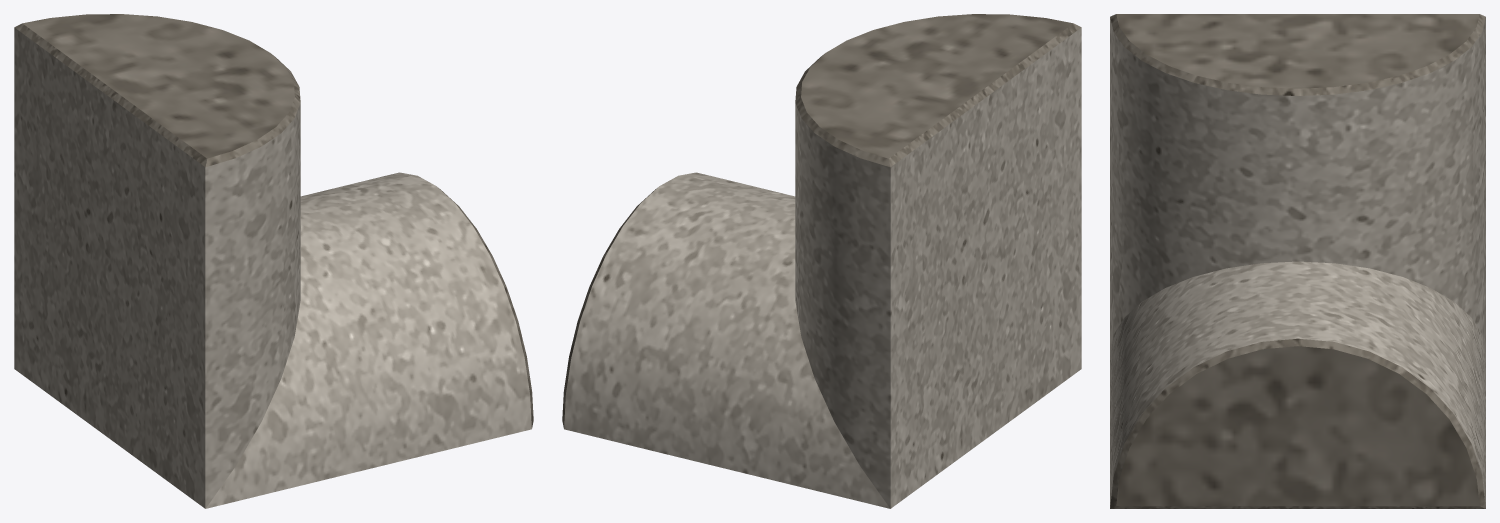
File: GB_013_014_15_016_wall_side_rounded_corner.glb
The picture shows the model from 3 angles, left to right: view 1: azimuth 30°, elevation 25°; view 2: azimuth 150°, elevation 25°; view 3: azimuth 270°, elevation 25°; orthographic projection.
Parts seen in each view (by area): view 1: GB_013_014_15_016_wall_side_rounded_corner; view 2: GB_013_014_15_016_wall_side_rounded_corner; view 3: GB_013_014_15_016_wall_side_rounded_corner.
Part boxes in pixels (x1,y1,x2,y2): GB_013_014_15_016_wall_side_rounded_corner: [14, 14, 533, 508]; GB_013_014_15_016_wall_side_rounded_corner: [562, 14, 1081, 508]; GB_013_014_15_016_wall_side_rounded_corner: [1110, 14, 1485, 508].
Size of the model in its own units: 0.75 by 0.75 by 0.7497.
Materials: 1 (1 with a texture image).
